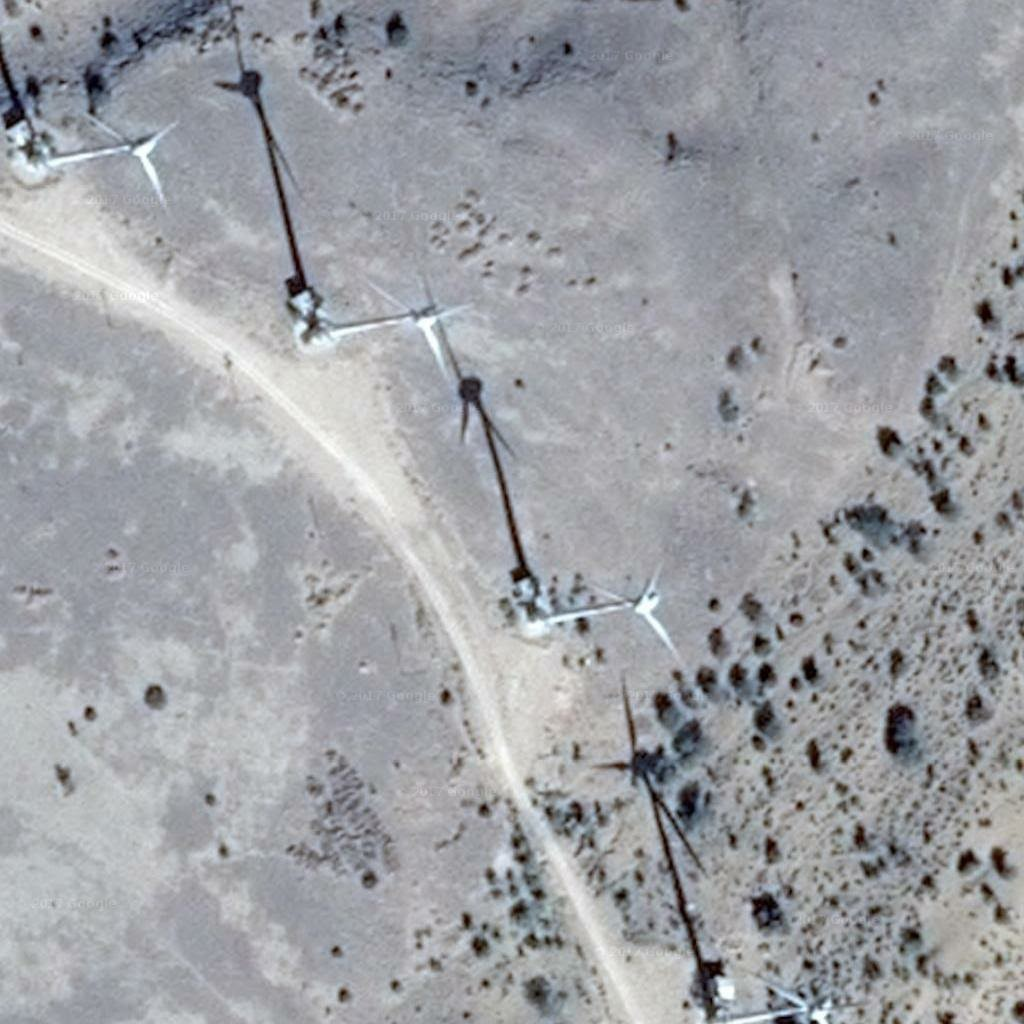Windmill: (421, 278, 544, 594)
